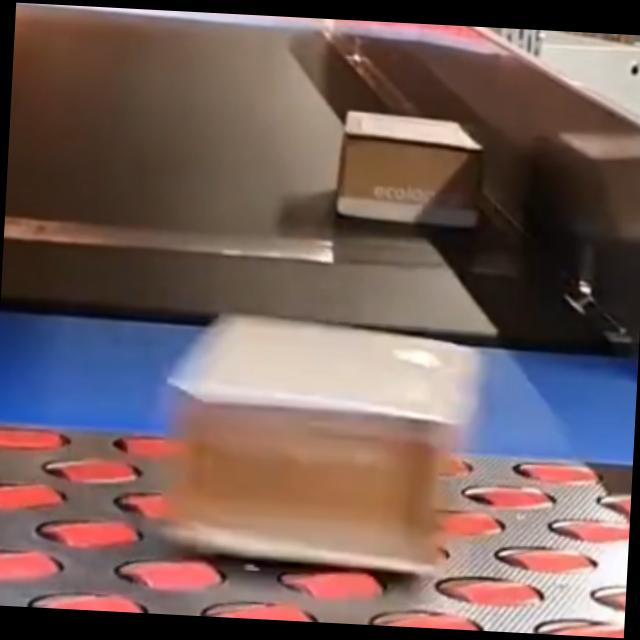box: (159, 306, 468, 574), (334, 104, 486, 230)
